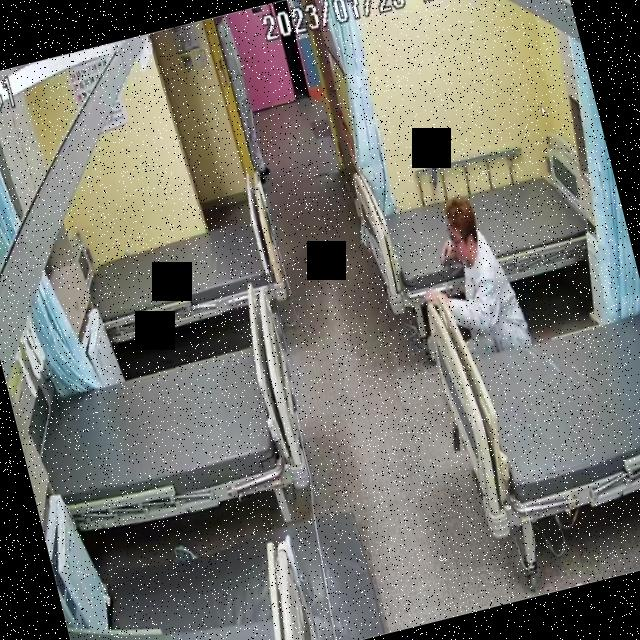bed: (418, 246, 640, 537), (23, 328, 315, 540), (354, 144, 610, 316), (80, 202, 288, 344)
fall: (401, 185, 546, 376)
patient: (405, 188, 545, 378)
